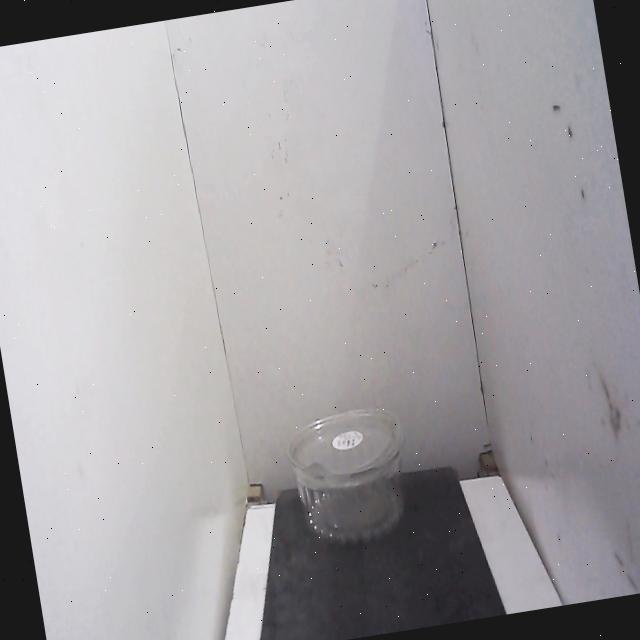plastico: (278, 394, 426, 565)
